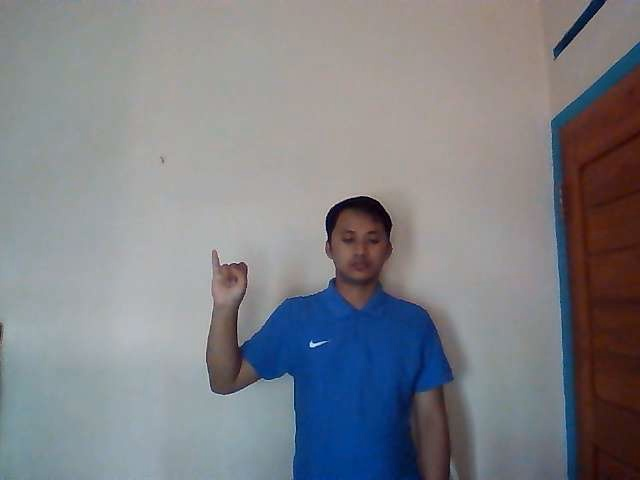I: (209, 248, 249, 306)
